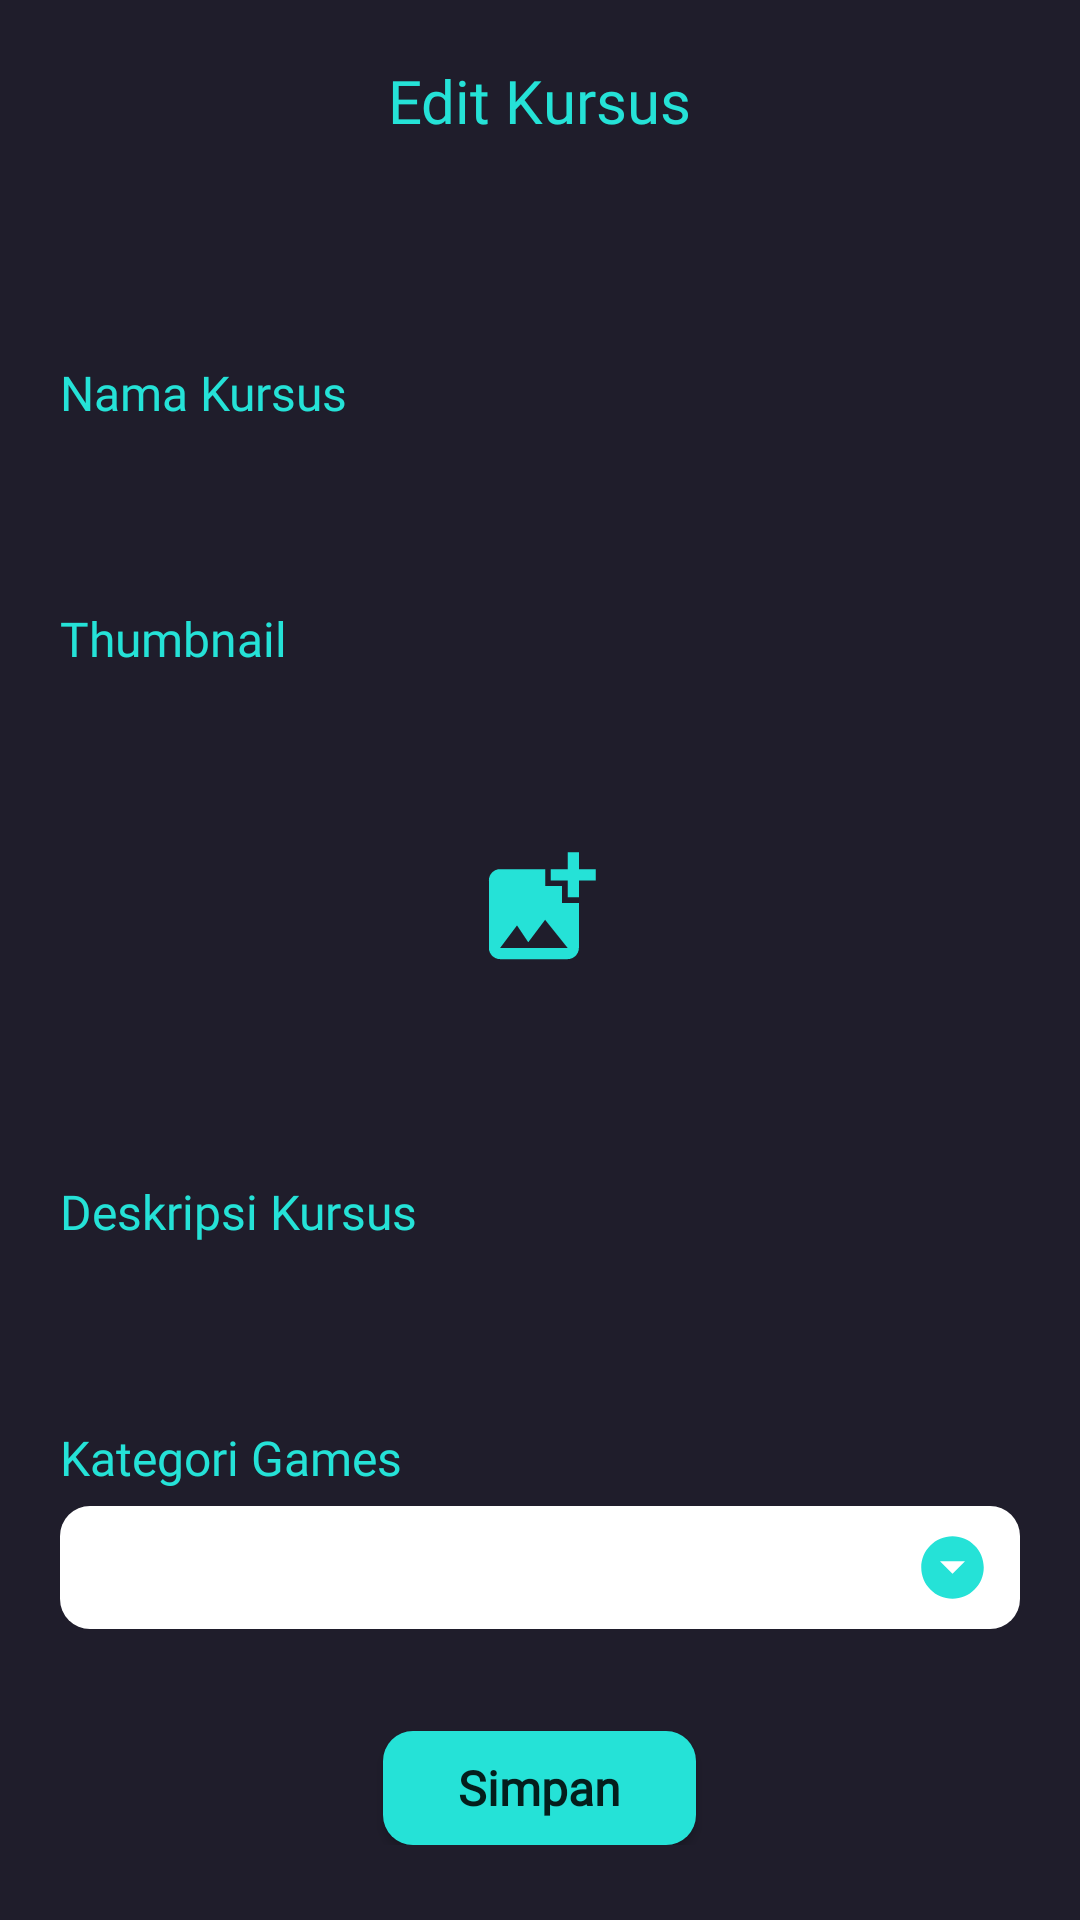

Point at icon controls on the screen. Image size 1080 x 1920, points as point (x, y).
add photo alternate: point (542, 906)
